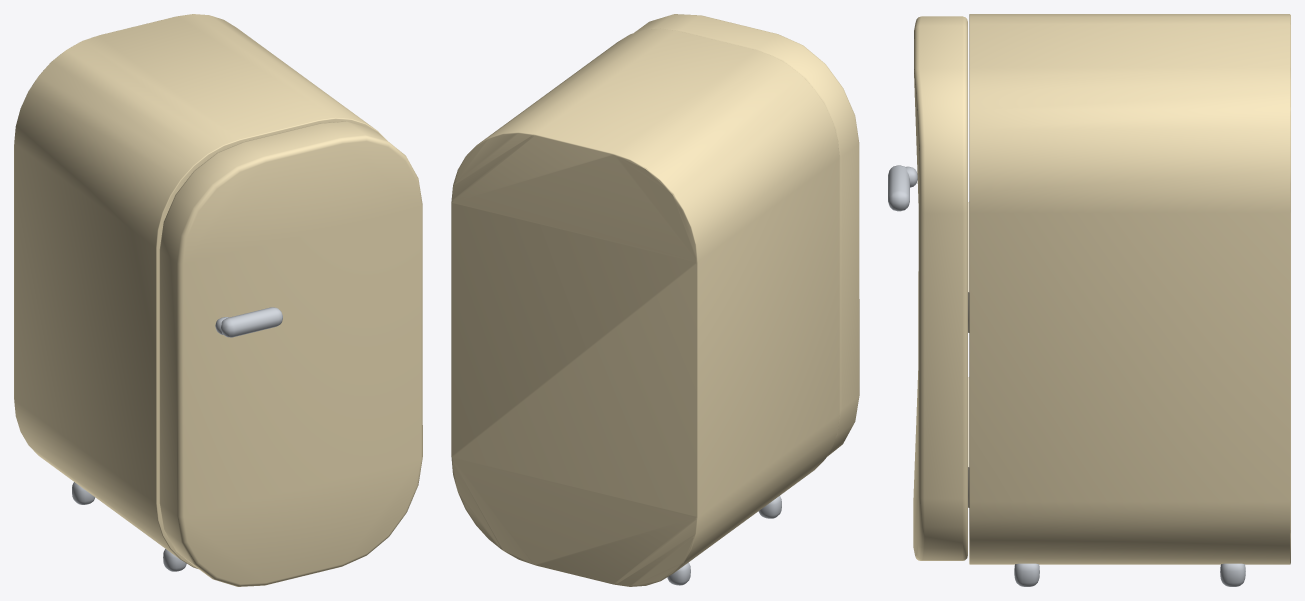
The model's file is frigobar_redondo_creme.glb.
3 renders of one model, left to right at view 1: azimuth 30°, elevation 25°; view 2: azimuth 150°, elevation 25°; view 3: azimuth 270°, elevation 25°, orthographic. The views are drawn at different scales.
Visible parts, largest first — view 1: porta, frigobar_redondo_creme; view 2: frigobar_redondo_creme, porta; view 3: frigobar_redondo_creme, porta.
Boxes of the visible parts, <box> form: porta: <box>159,121,422,586</box>; frigobar_redondo_creme: <box>14,14,387,571</box>; frigobar_redondo_creme: <box>451,28,839,586</box>; porta: <box>634,14,859,457</box>; frigobar_redondo_creme: <box>969,14,1290,586</box>; porta: <box>888,16,969,560</box>.
Size of the model in its own units: 0.5 by 0.85 by 0.626.
Materials: 1 (1 with a texture image).
